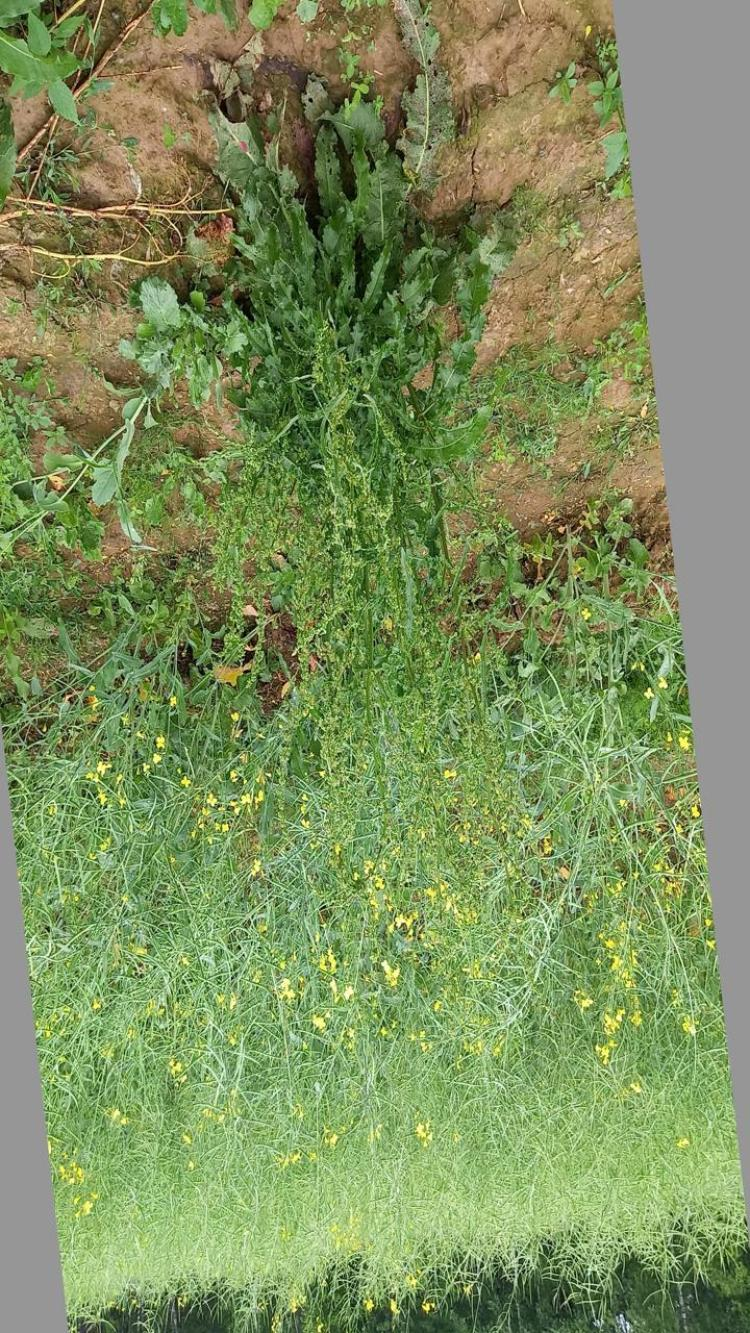zhavel: (135, 71, 567, 852)
